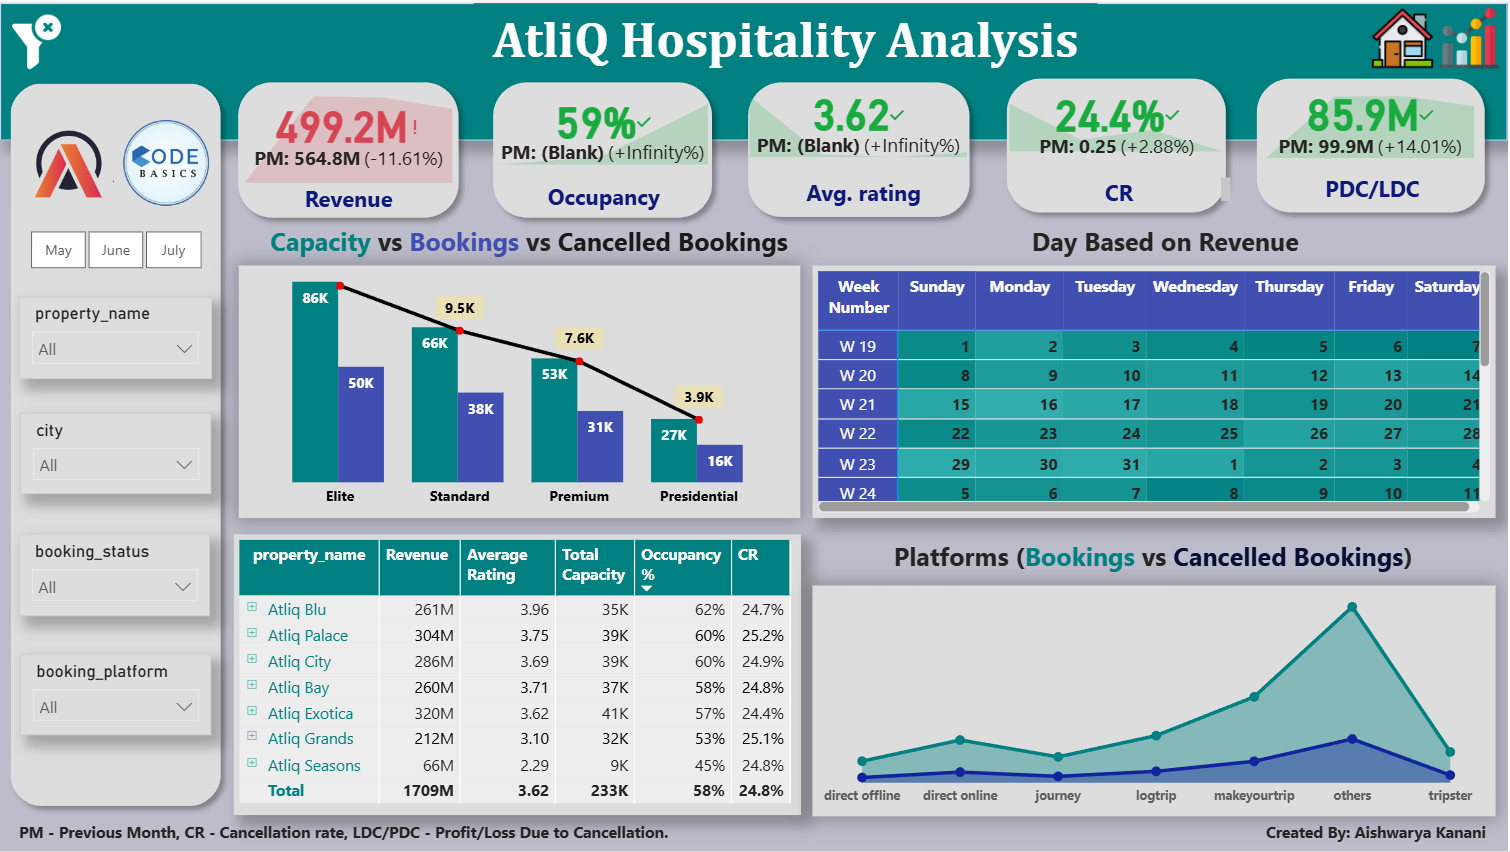

The dashboard page shown, as its layout file describes it:
{"tool":"powerbi","page":{"name":"Monthly","canvas":[1280,720],"ordinal":2},"visuals":[{"type":"shape","box":[0,0,1280,116.9],"z":0},{"type":"textbox","box":[401.7,0,529.6,80.8],"z":1000},{"type":"shape","box":[0,59,196.2,631.2],"z":2000},{"type":"image","title":"atliq","box":[12.3,97.4,85.1,78.2],"z":3000},{"type":"image","title":"codebasics","box":[98.8,96.1,85.1,78.2],"z":4000},{"type":"slicer","fields":{"Values":["dim_hotels.property_name"]},"box":[15.9,249.5,163.9,69.7],"z":5000},{"type":"slicer","fields":{"Values":["dim_hotels.city"]},"box":[17.1,348.5,162.6,68.5],"z":6000},{"type":"slicer","fields":{"Values":["fact_bookings.booking_status"]},"box":[15.9,451.2,162.6,69.7],"z":7000},{"type":"slicer","fields":{"Values":["fact_bookings.booking_platform"]},"box":[17.1,552.7,162.6,68.5],"z":8000},{"type":"shape","box":[626.4,57.9,205.9,132.2],"z":9000},{"type":"shape","box":[193.5,58.8,205.1,132.7],"z":10000},{"type":"shape","box":[409.2,57.9,203.9,132.7],"z":11000},{"type":"image","box":[7.6,4.5,47,57.6],"z":12000},{"type":"shape","box":[845.7,55.5,203.9,131.5],"z":13000},{"type":"shape","box":[1058.6,55.7,211.4,131.4],"z":14000},{"type":"textbox","box":[734.3,182.9,510,40],"z":15000},{"type":"pivotTable","fields":{"Rows":["dim_hotels.property_name","dim_hotels.city"],"Values":["fact_bookings.Revenue","fact_bookings.Average Rating","fact_aggregated_bookings.Total Capacity","fact_aggregated_bookings.Occupancy %","fact_bookings.CR"]},"box":[198.6,451.4,481.4,238.6],"z":16000},{"type":"textbox","box":[7.5,689.9,860.6,30.1],"z":17000},{"type":"textbox","box":[1069.8,689.9,197.9,30.1],"z":18000},{"type":"textbox","box":[198.6,182.9,501.4,40],"z":19000},{"type":"slicer","fields":{"Values":["dim_date.date.Variation.Date Hierarchy.Month"]},"box":[0,186.6,194.9,45.3],"z":20000},{"type":"kpi","fields":{"Indicator":["fact_bookings.Revenue"],"TrendLine":["dim_date.mmm yy.Variation.Date Hierarchy.Month"],"Goal":["fact_bookings.revenue LM"]},"box":[203.1,74.1,186.6,83.7],"z":21000},{"type":"textbox","box":[421.3,146.8,182.5,39.8],"z":22000},{"type":"textbox","box":[203.1,148.2,186.6,38.4],"z":23000},{"type":"kpi","fields":{"Indicator":["fact_aggregated_bookings.Occupancy %"],"TrendLine":["dim_date.Month"],"Goal":["fact_aggregated_bookings.Occupancy % LM"]},"box":[417.2,81,189.4,61.7],"z":24000},{"type":"kpi","fields":{"Indicator":["fact_bookings.Average Rating"],"TrendLine":["dim_date.Month"],"Goal":["fact_bookings.Average rating LM"]},"box":[631.2,74.1,194.9,61.7],"z":25000},{"type":"textbox","box":[641.4,142.9,184.3,35.7],"z":26000},{"type":"kpi","fields":{"Indicator":["fact_bookings.CR"],"TrendLine":["dim_date.date.Variation.Date Hierarchy.Month"],"Goal":["fact_bookings.cancellation rate LM"]},"box":[852.1,81,192.1,50.8],"z":27000},{"type":"textbox","box":[857.5,143.8,192.5,32.5],"z":28000},{"type":"kpi","fields":{"Indicator":["fact_bookings.LDC"],"TrendLine":["dim_date.date.Variation.Date Hierarchy.Month"],"Goal":["fact_bookings.LDC LM"]},"box":[1070,74.3,187.1,62.9],"z":29000},{"type":"textbox","box":[1060,140,210,40],"z":30000},{"type":"lineClusteredColumnComboChart","title":"Capacity vs Bookings vs Cancelled Bookings","fields":{"Category":["dim_rooms.room_class"],"Y":["fact_aggregated_bookings.Total Capacity","fact_bookings.Total Bookings"],"Y2":["fact_bookings.Total cancelled bookings"]},"box":[202.9,222.9,477.1,214.3],"z":31000},{"type":"areaChart","fields":{"Category":["fact_bookings.booking_platform"],"Y":["fact_bookings.Total Bookings","fact_bookings.Total cancelled bookings"]},"box":[690,494.3,580,195.7],"z":32000},{"type":"textbox","box":[690,450,578.6,44.3],"z":33000},{"type":"pivotTable","fields":{"Columns":["Weekday Table.DayName"],"Rows":["dim_date.Week Number"],"Values":["Sum(dim_date.DAY)"]},"box":[690,222.9,580,214.3],"z":34000},{"type":"image","box":[1160,4.3,61.4,51.4],"z":35000},{"type":"image","box":[1215.7,4.3,64.3,51.4],"z":36000}]}

Visuals, with their boxes in screenshot pixels (x1, y1, x2, y2), scaled from the page's 1280x720 canvas onto the 1510x852 screenshot:
shape: 0, 0, 1509, 138
textbox: 474, 0, 1099, 96
shape: 0, 70, 231, 817
"atliq" image: 15, 115, 115, 208
"codebasics" image: 117, 114, 217, 206
slicer - dim_hotels.property_name: 19, 295, 212, 378
slicer - dim_hotels.city: 20, 412, 212, 493
slicer - fact_bookings.booking_status: 19, 534, 211, 616
slicer - fact_bookings.booking_platform: 20, 654, 212, 735
shape: 739, 69, 982, 225
shape: 228, 70, 470, 227
shape: 483, 69, 723, 226
image: 9, 5, 64, 73
shape: 998, 66, 1238, 221
shape: 1249, 66, 1498, 221
textbox: 866, 216, 1468, 264
pivotTable - dim_hotels.property_name x dim_hotels.city: 234, 534, 802, 816
textbox: 9, 816, 1024, 851
textbox: 1262, 816, 1495, 851
textbox: 234, 216, 826, 264
slicer - dim_date.date.Variation.Date Hierarchy.Month: 0, 221, 230, 274
kpi - fact_bookings.Revenue x dim_date.mmm yy.Variation.Date Hierarchy.Month: 240, 88, 460, 187
textbox: 497, 174, 712, 221
textbox: 240, 175, 460, 221
kpi - fact_aggregated_bookings.Occupancy % x dim_date.Month: 492, 96, 716, 169
kpi - fact_bookings.Average Rating x dim_date.Month: 745, 88, 975, 161
textbox: 757, 169, 974, 211
kpi - fact_bookings.CR x dim_date.date.Variation.Date Hierarchy.Month: 1005, 96, 1232, 156
textbox: 1012, 170, 1239, 209
kpi - fact_bookings.LDC x dim_date.date.Variation.Date Hierarchy.Month: 1262, 88, 1483, 162
textbox: 1250, 166, 1498, 213
"Capacity vs Bookings vs Cancelled Bookings" lineClusteredColumnComboChart: 239, 264, 802, 517
areaChart - fact_bookings.booking_platform x fact_bookings.Total Bookings: 814, 585, 1498, 816
textbox: 814, 532, 1497, 585
pivotTable - Weekday Table.DayName x dim_date.Week Number: 814, 264, 1498, 517
image: 1368, 5, 1441, 66
image: 1434, 5, 1509, 66
